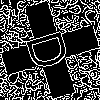D: (25, 25, 79, 73)
